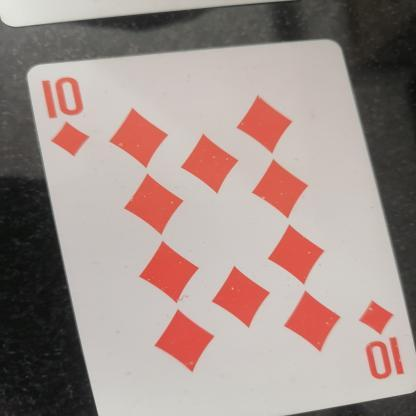10D: (34, 68, 103, 166), (337, 298, 416, 382)
